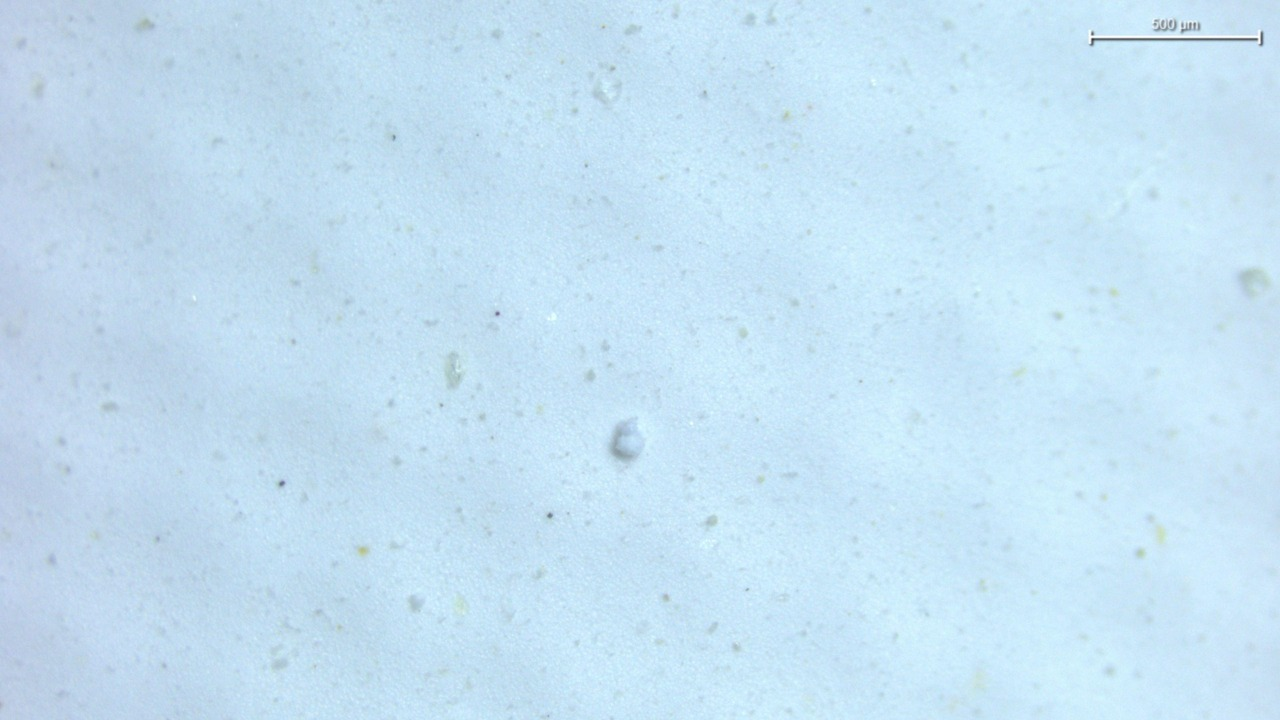microplastic_fragment: (610, 417, 645, 460)
